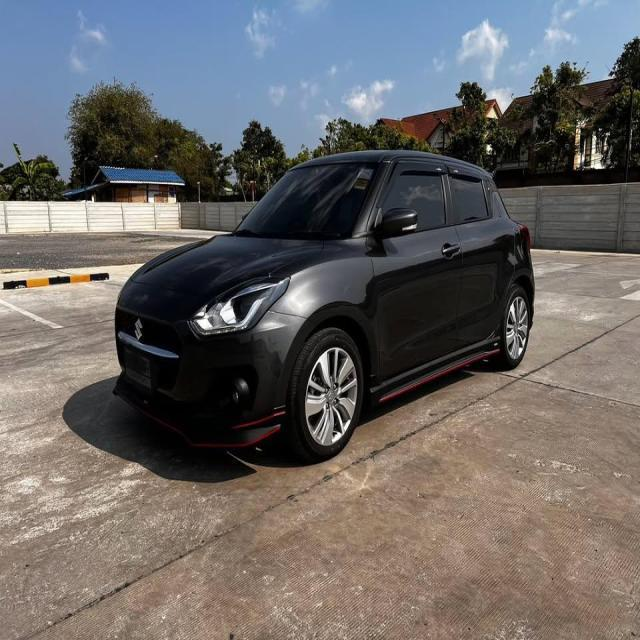Hatchback: (113, 150, 536, 468)
